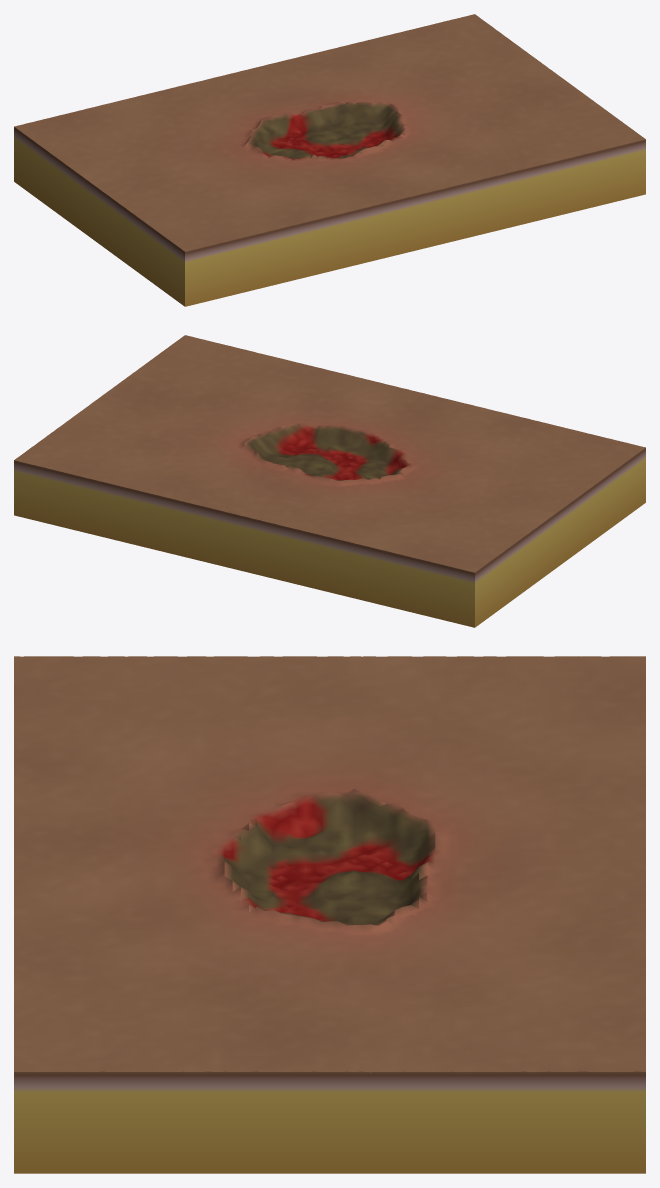
The model's file is care_necrohum.glb.
3 renders of one model, top to bottom at view 1: azimuth 30°, elevation 25°; view 2: azimuth 150°, elevation 25°; view 3: azimuth 270°, elevation 25°, orthographic. The views are drawn at different scales.
Parts seen in each view (by area): view 1: care_necrohum; view 2: care_necrohum; view 3: care_necrohum.
Boxes of the visible parts, x1,y1,x2,y2 form: care_necrohum: (14,14,645,306); care_necrohum: (14,335,645,627); care_necrohum: (14,656,645,1173).
Size of the model in its own units: 14 by 1.71 by 9.
